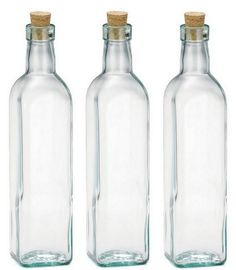emptybottle: (85, 10, 149, 266), (164, 12, 227, 267), (9, 11, 71, 266)
